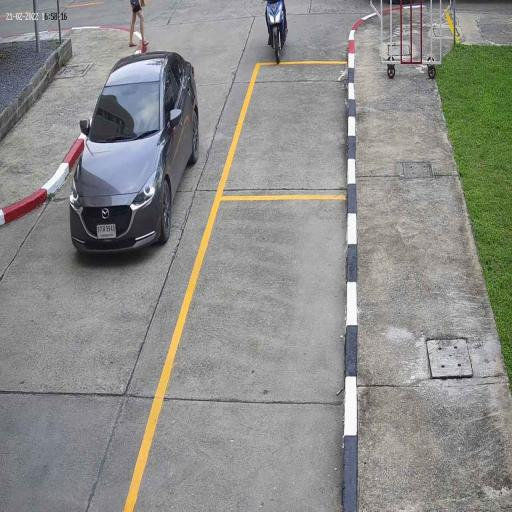car: (70, 49, 199, 255)
motorcycle: (266, 0, 285, 62)
